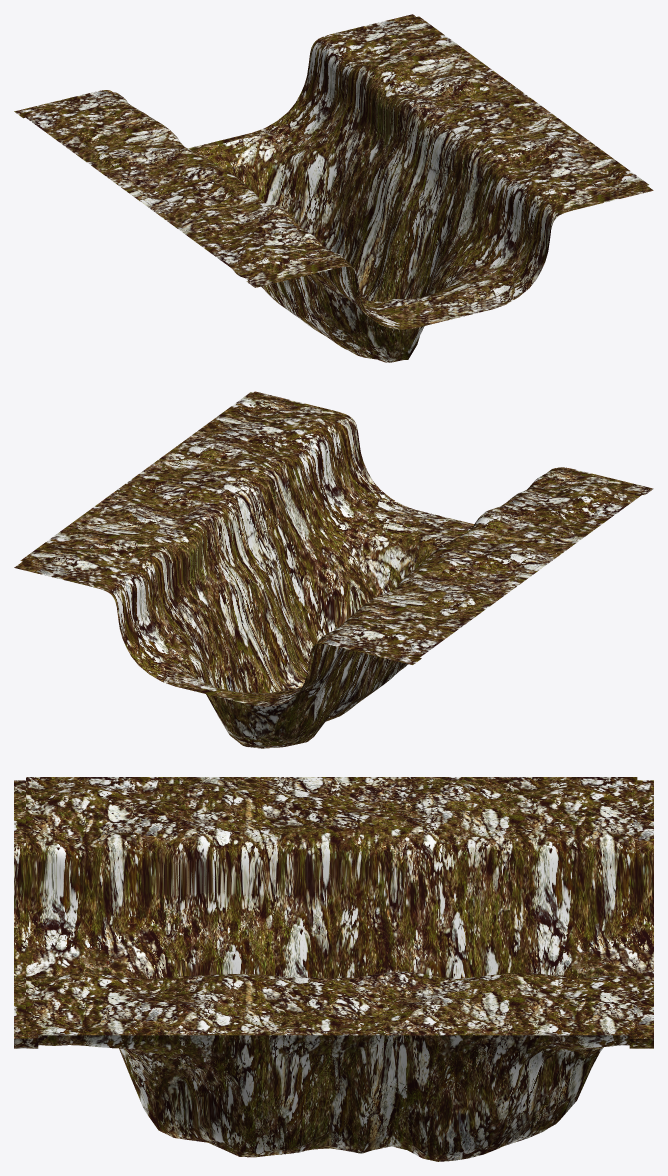
Rendered from Hole_Valley.FBX.
3 views of the same model, one above another, from view 1: azimuth 30°, elevation 25°; view 2: azimuth 150°, elevation 25°; view 3: azimuth 270°, elevation 25° (orthographic). The views are drawn at different scales.
Parts seen in each view (by area): view 1: Hole_flat; view 2: Hole_flat; view 3: Hole_flat.
Boxes of the visible parts, x1,y1,x2,y2 form: Hole_flat: (14,14,653,362); Hole_flat: (14,391,653,748); Hole_flat: (14,777,653,1161).
Bounding box in the file's own units: 1000 × 436 × 1047.
